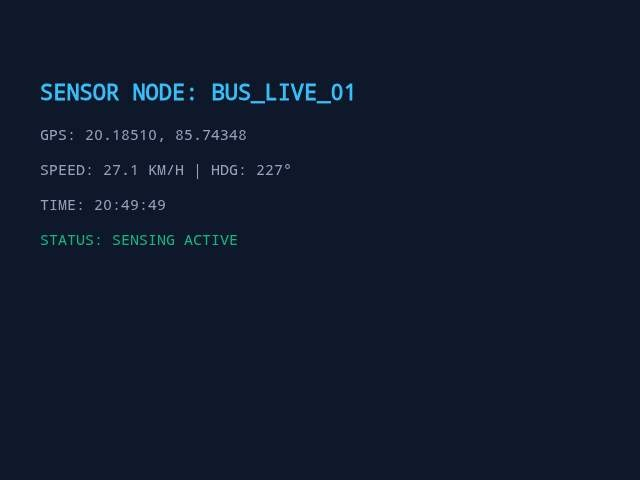pothole: (461, 395, 594, 435), (428, 395, 559, 435)
